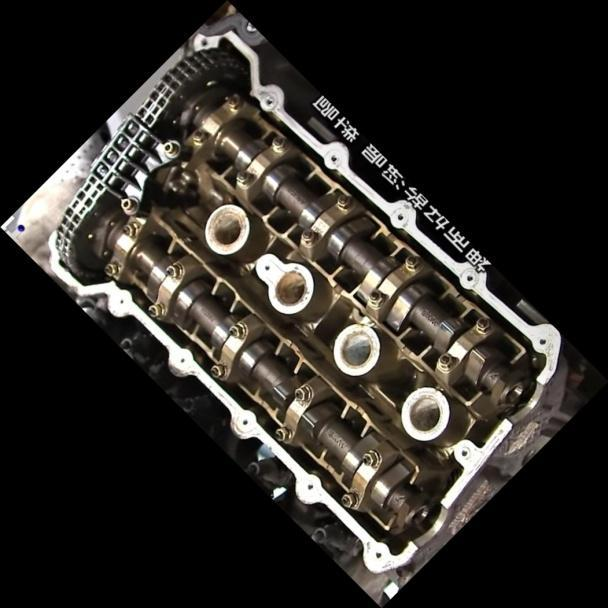hole: (458, 444, 470, 457), (238, 414, 251, 426), (304, 479, 316, 491), (535, 333, 547, 345), (262, 93, 274, 105), (463, 271, 474, 283), (393, 209, 405, 220), (371, 547, 382, 558), (328, 150, 338, 162), (116, 296, 126, 305), (177, 355, 186, 363)
